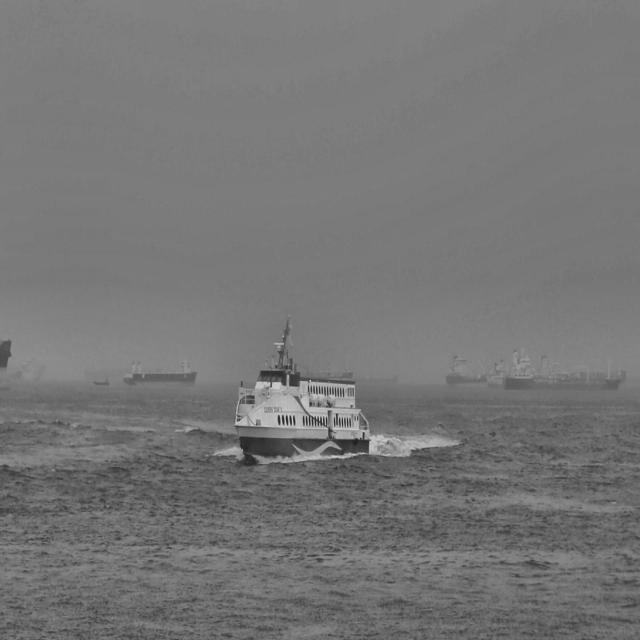ship: (234, 309, 372, 467), (501, 346, 622, 390), (122, 360, 198, 385), (444, 346, 488, 388), (9, 354, 45, 382), (0, 336, 14, 394), (489, 353, 506, 388), (92, 372, 110, 390)
